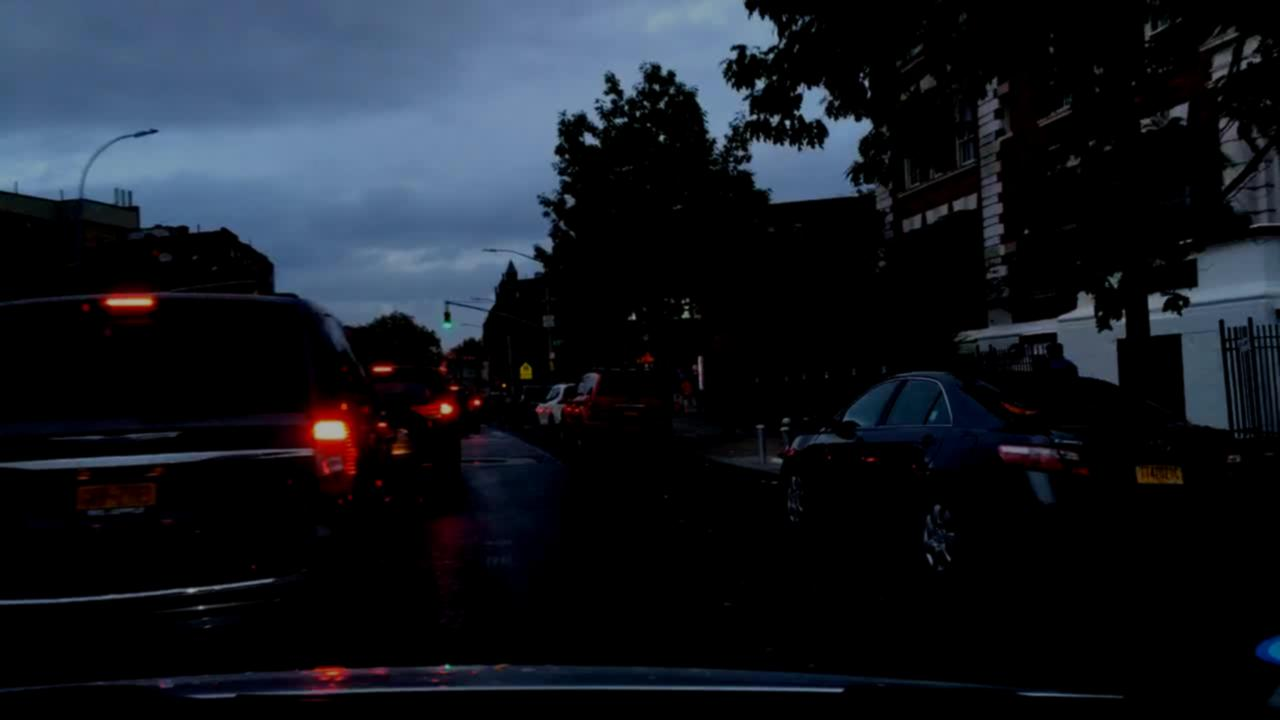Chrysler: (33, 421, 206, 452)
Toyota: (1147, 434, 1181, 458)
